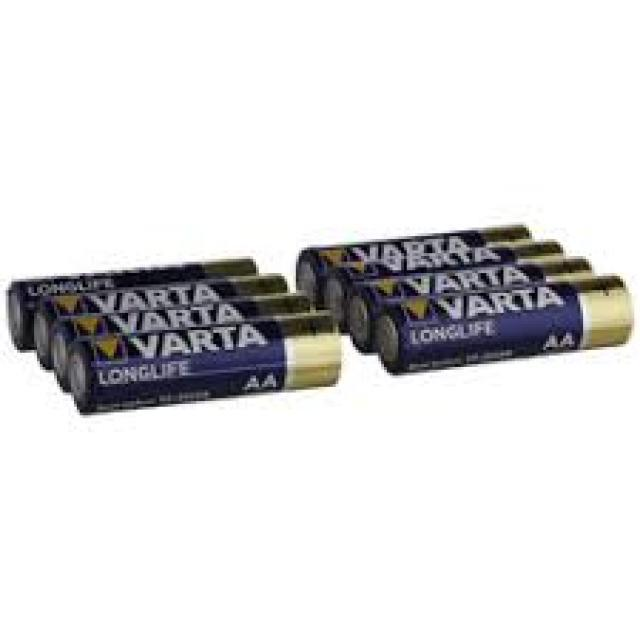battery: (376, 270, 632, 380), (71, 313, 342, 414)
